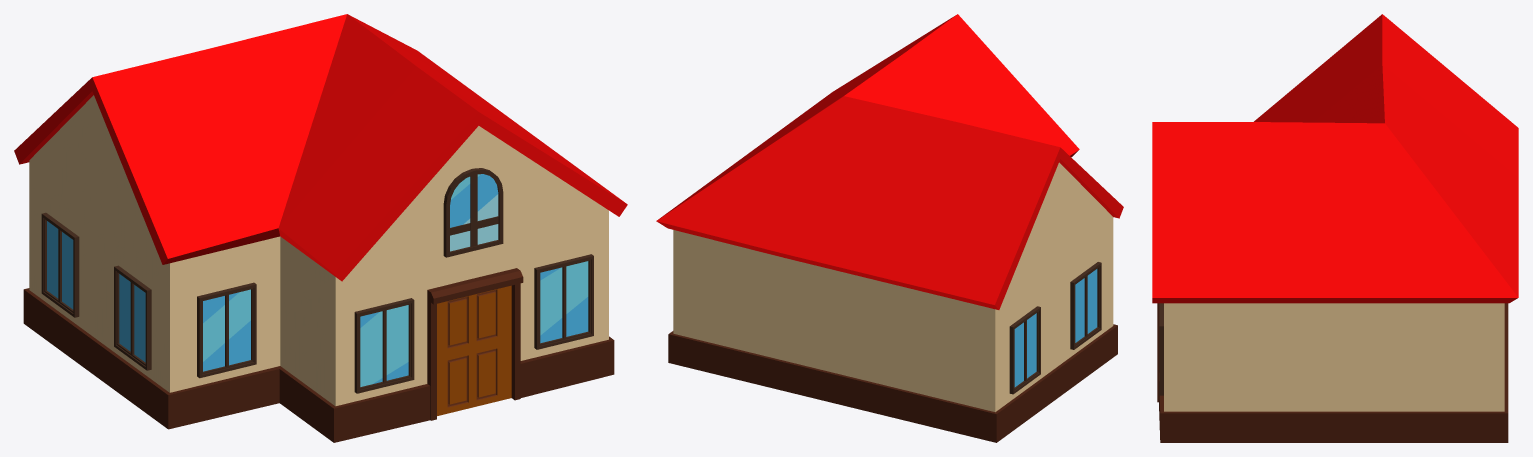
The model's file is Env_ResidentBuilding_03.fbx.
The picture shows the model from 3 angles, left to right: view 1: azimuth 30°, elevation 25°; view 2: azimuth 150°, elevation 25°; view 3: azimuth 270°, elevation 25°; orthographic projection. The views are drawn at different scales.
Visible parts, largest first — view 1: Env_ResidentBuilding_03; view 2: Env_ResidentBuilding_03; view 3: Env_ResidentBuilding_03.
Boxes of the visible parts, box(x1,y1,x2,y2) form: Env_ResidentBuilding_03: box(14, 14, 627, 442); Env_ResidentBuilding_03: box(656, 14, 1123, 442); Env_ResidentBuilding_03: box(1152, 14, 1518, 442).
Bounding box in the file's own units: 768 × 546 × 693.
